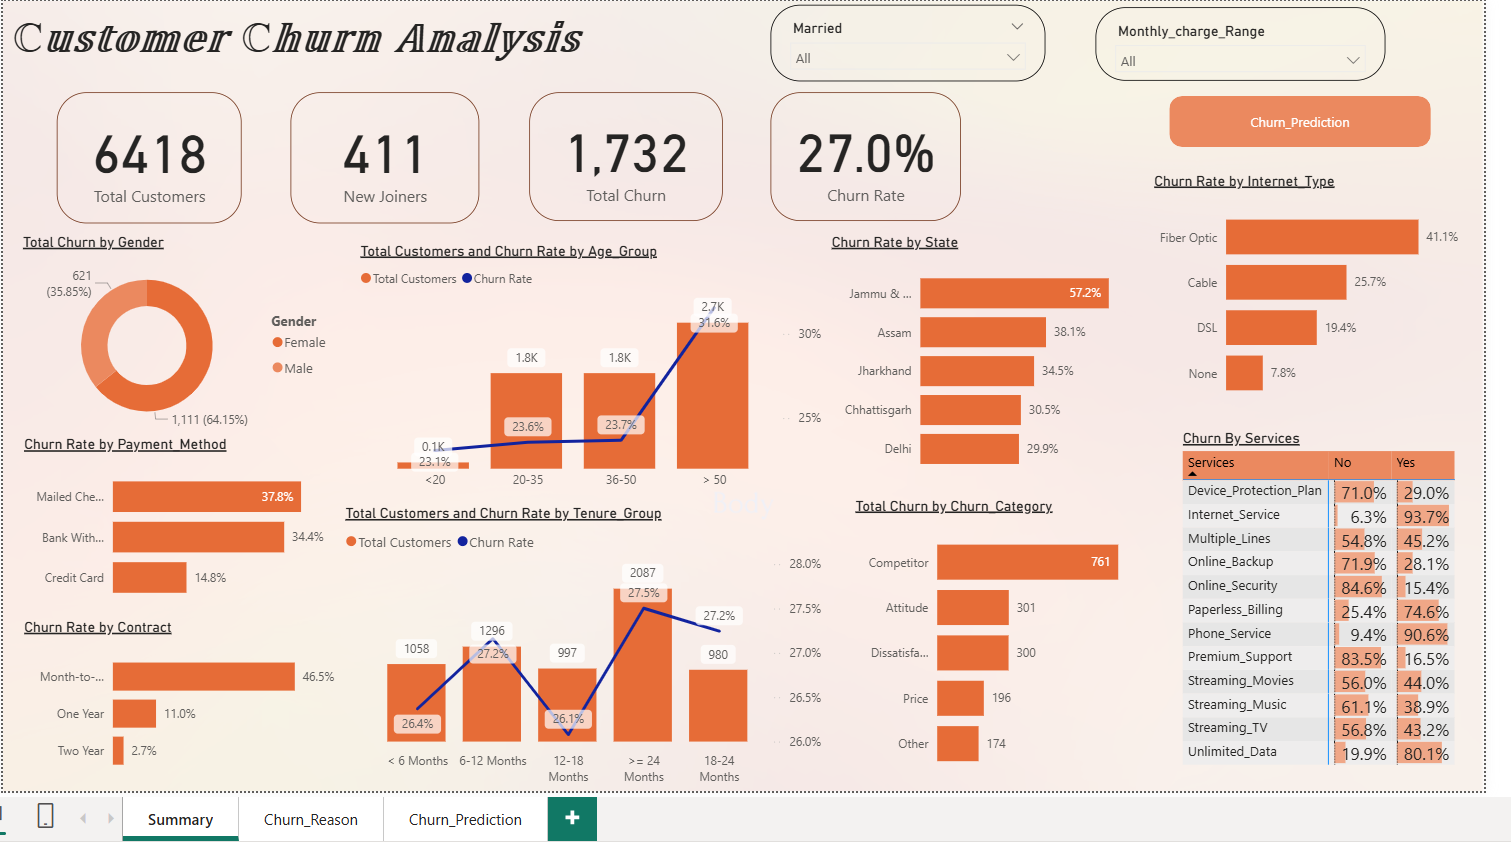

The page's visual inventory and layout, read from the dashboard file:
{"tool":"powerbi","page":{"name":"Summary","canvas":[1500,800],"ordinal":0},"visuals":[{"type":"card","fields":{"Values":["Table_Measure.Total Customers"]},"box":[54.3,92.4,187.5,133.2],"z":0},{"type":"card","fields":{"Values":["Table_Measure.New Joiners"]},"box":[290.8,92.4,191.6,133.2],"z":1000},{"type":"card","fields":{"Values":["Table_Measure.Churn Rate"]},"box":[777.2,92.4,192.9,130.4],"z":2000},{"type":"card","fields":{"Values":["Table_Measure.Total Churn"]},"box":[532.6,92.4,195.7,130.4],"z":3000},{"type":"donutChart","fields":{"Category":["churn_db prod1_churn.Gender"],"Y":["Table_Measure.Total Churn"]},"box":[14.9,235.1,327.4,210.6],"z":4000},{"type":"lineStackedColumnComboChart","fields":{"Category":["Mapping_AgeGroup.Age_Group"],"Y":["Table_Measure.Total Customers"],"Y2":["Table_Measure.Churn Rate"]},"box":[357.3,244.6,476.9,259.5],"z":5000},{"type":"clusteredBarChart","fields":{"Category":["churn_db prod1_churn.Payment_Method"],"Y":["Table_Measure.Churn Rate"]},"box":[16.3,440.2,326.1,182.1],"z":6000},{"type":"clusteredBarChart","fields":{"Category":["churn_db prod1_churn.Contract"],"Y":["Table_Measure.Churn Rate"]},"box":[16.3,625,326.1,169.8],"z":7000},{"type":"lineStackedColumnComboChart","fields":{"Category":["Mapping_TenureGroup.Tenure_Group"],"Y":["Table_Measure.Total Customers"],"Y2":["Table_Measure.Churn Rate"]},"box":[342.4,509.5,491.9,290.8],"z":8000},{"type":"clusteredBarChart","fields":{"Category":["churn_db prod1_churn.State"],"Y":["Table_Measure.Churn Rate"]},"box":[834.2,235.1,326.1,255.4],"z":9000},{"type":"clusteredBarChart","fields":{"Category":["churn_db prod1_churn.Churn_Category"],"Y":["Table_Measure.Total Churn"]},"box":[858.7,502.7,301.6,292.1],"z":10000},{"type":"clusteredBarChart","fields":{"Category":["churn_db prod1_churn.Internet_Type"],"Y":["Table_Measure.Churn Rate"]},"box":[1160.3,173.9,324.7,245.9],"z":11000},{"type":"pivotTable","title":"Churn By Services","fields":{"Rows":["Prod_Services.Services"],"Columns":["Prod_Services.Status"],"Values":["Sum(Prod_Services.Churn_status)"]},"box":[1190.2,434.8,294.8,360.1],"z":12000},{"type":"slicer","fields":{"Values":["churn_db prod1_churn.Monthly_charge_status"]},"box":[1106,6.8,293.5,74.7],"z":13000},{"type":"slicer","fields":{"Values":["churn_db prod1_churn.Married"]},"box":[777.2,4.1,278.5,77.4],"z":14000},{"type":"textbox","box":[4.1,0,622.3,107.3],"z":15000},{"type":"shape","box":[1180.7,96.5,264.9,51.6],"z":16000}]}

Visuals, with their boxes on the page's 1500x800 design canvas (x1, y1, x2, y2). These are canvas units, not pixel positions in the 1511x842 screenshot, which may show the page scaled, cropped or inside an application window:
card - Table_Measure.Total Customers: crop(54, 92, 242, 226)
card - Table_Measure.New Joiners: crop(291, 92, 482, 226)
card - Table_Measure.Churn Rate: crop(777, 92, 970, 223)
card - Table_Measure.Total Churn: crop(533, 92, 728, 223)
donutChart - churn_db prod1_churn.Gender x Table_Measure.Total Churn: crop(15, 235, 342, 446)
lineStackedColumnComboChart - Mapping_AgeGroup.Age_Group x Table_Measure.Total Customers: crop(357, 245, 834, 504)
clusteredBarChart - churn_db prod1_churn.Payment_Method x Table_Measure.Churn Rate: crop(16, 440, 342, 622)
clusteredBarChart - churn_db prod1_churn.Contract x Table_Measure.Churn Rate: crop(16, 625, 342, 795)
lineStackedColumnComboChart - Mapping_TenureGroup.Tenure_Group x Table_Measure.Total Customers: crop(342, 510, 834, 800)
clusteredBarChart - churn_db prod1_churn.State x Table_Measure.Churn Rate: crop(834, 235, 1160, 490)
clusteredBarChart - churn_db prod1_churn.Churn_Category x Table_Measure.Total Churn: crop(859, 503, 1160, 795)
clusteredBarChart - churn_db prod1_churn.Internet_Type x Table_Measure.Churn Rate: crop(1160, 174, 1485, 420)
"Churn By Services" pivotTable: crop(1190, 435, 1485, 795)
slicer - churn_db prod1_churn.Monthly_charge_status: crop(1106, 7, 1400, 82)
slicer - churn_db prod1_churn.Married: crop(777, 4, 1056, 82)
textbox: crop(4, 0, 626, 107)
shape: crop(1181, 96, 1446, 148)
